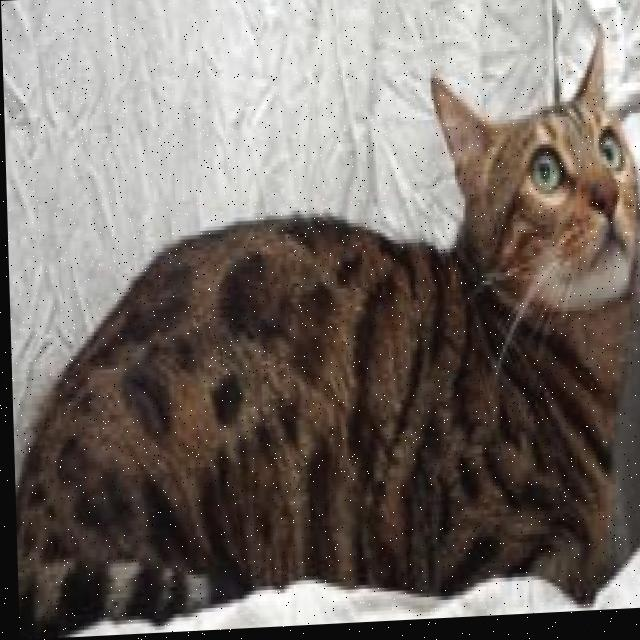Bengal: (1, 23, 640, 640)
